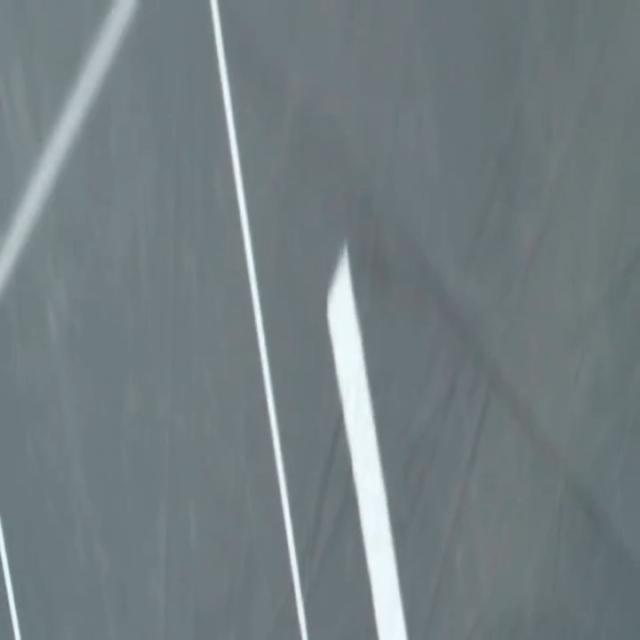center: (327, 243, 406, 639)
